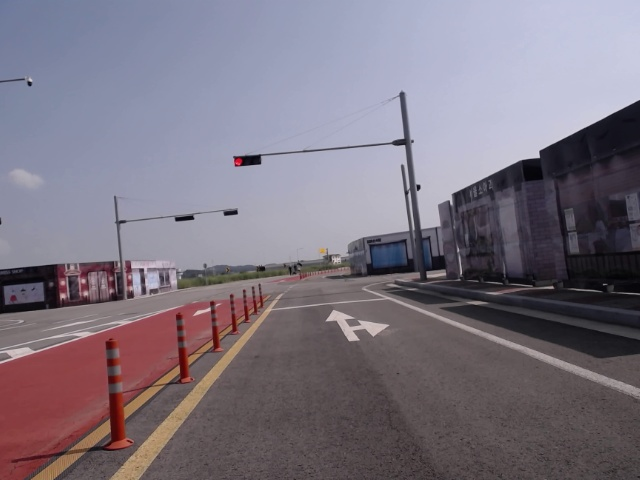red_3: (233, 155, 260, 166)
